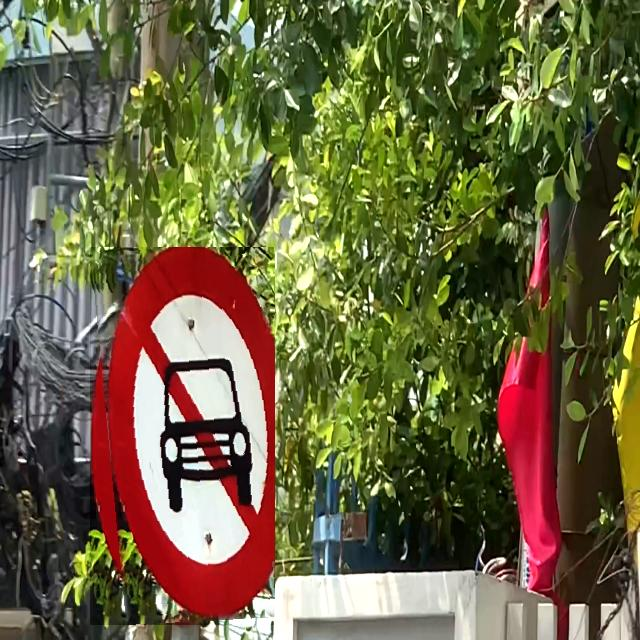bien_hieu_lenh: (90, 247, 275, 625)
